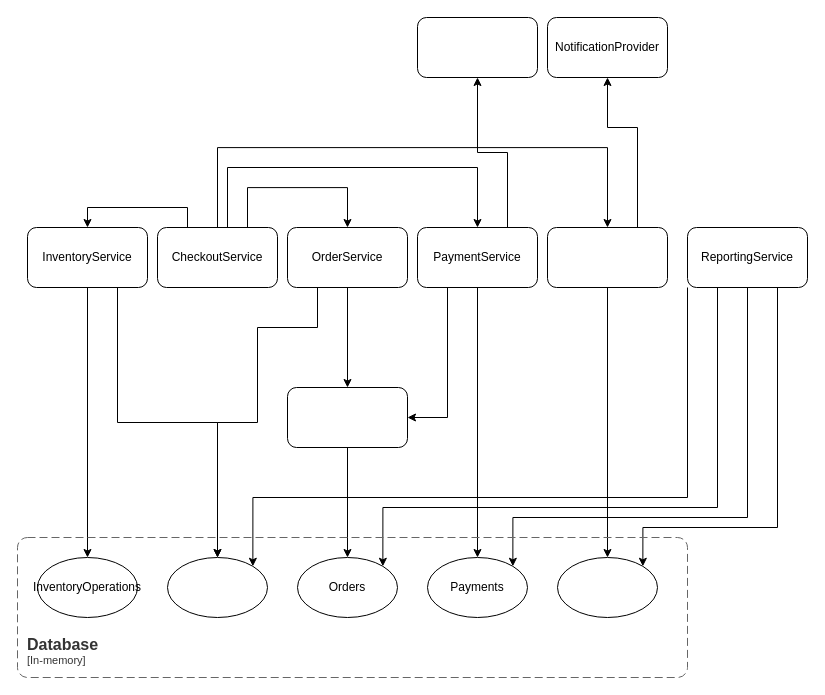
This 825x695 diagram has some shape labels left out. Here are the shapes that lost their labels. From the top down, the centre of each, then its label:
the point at 477,47: PaymentProvider
the point at 607,257: NotificationService
the point at 347,417: OrderRepository
the point at 217,587: Products
the point at 607,587: Notifications
